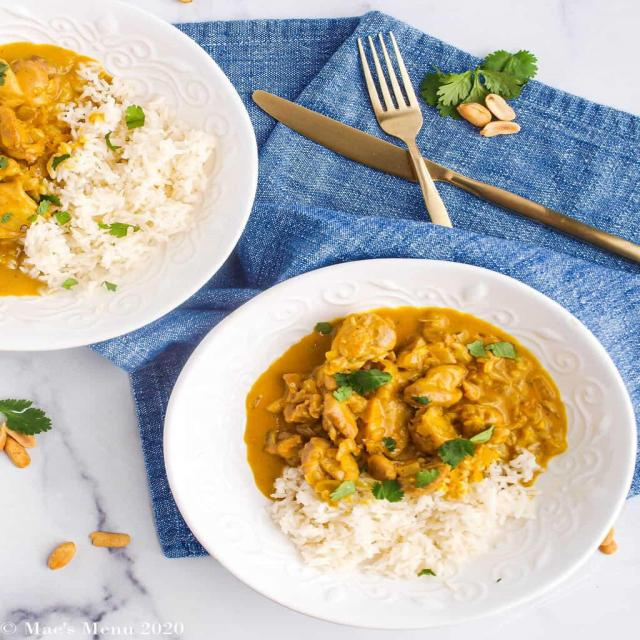chicken: (235, 316, 577, 492), (4, 50, 125, 289)
rice: (273, 466, 592, 584), (52, 106, 204, 291)
